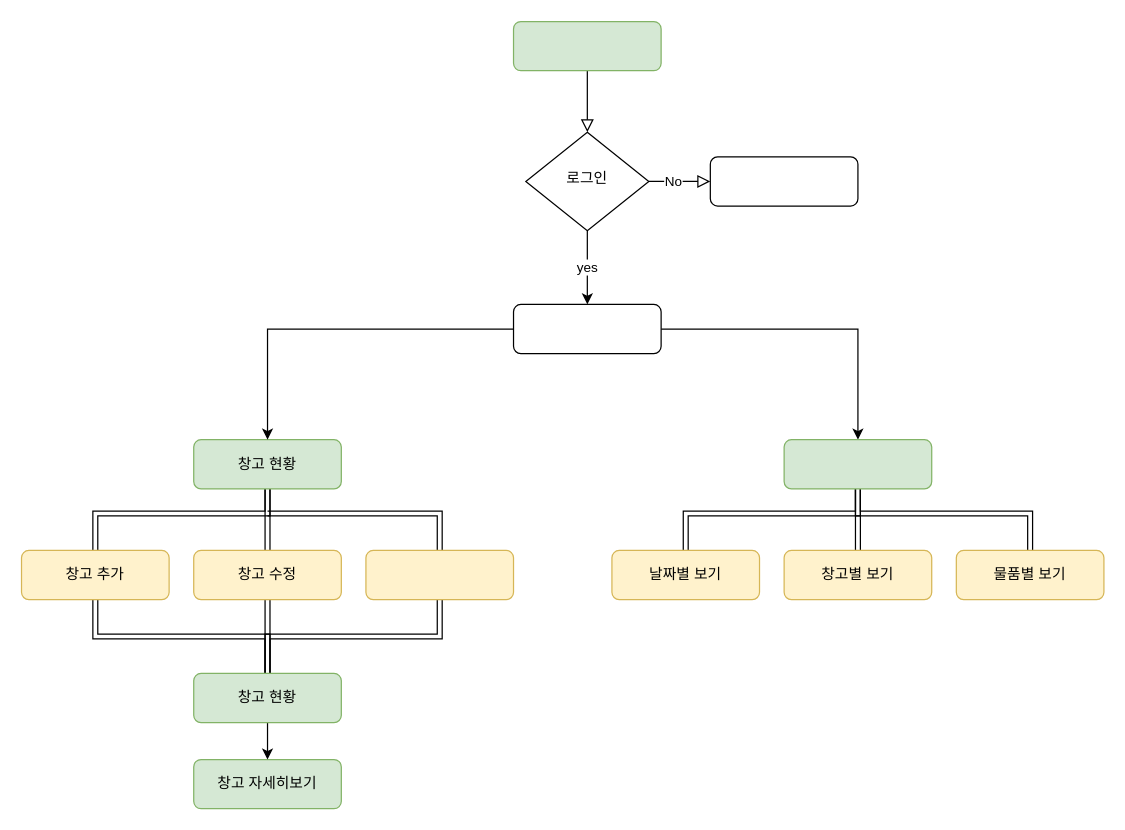
The diagram is 1125 pixels wide and 830 high, and some of its shapes have lost their labels. Here are the shapes that lost their labels. From the top down, the centre of each, then its label:
At point 586,45: "모두의 창고".
At point 783,181: "회원가입".
At point 586,328: "서비스 선택".
At point 857,463: "입출고 내역".
At point 439,574: "창고 삭제".
